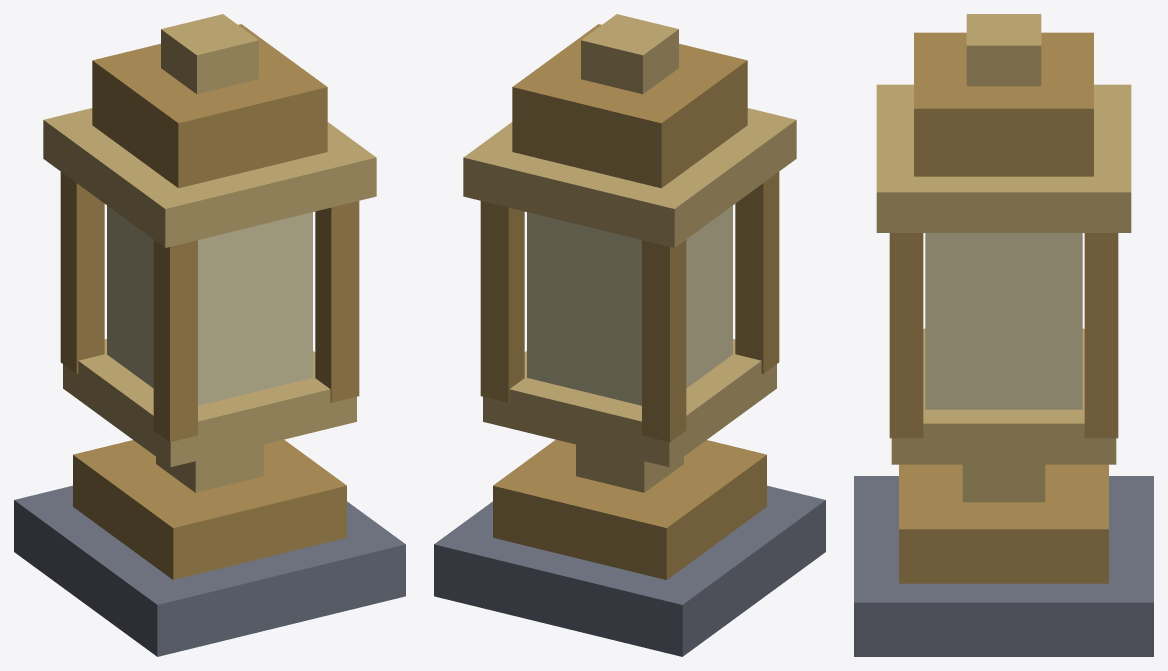
File: lampa_0.glb
3 views of the same model, side by side, from view 1: azimuth 30°, elevation 25°; view 2: azimuth 150°, elevation 25°; view 3: azimuth 270°, elevation 25° (orthographic). The views are drawn at different scales.
Parts seen in each view (by area): view 1: part_0, part_10, part_1, part_5, part_4, part_3, part_7, part_9, part_6, part_11, part_2; view 2: part_0, part_10, part_1, part_5, part_4, part_3, part_6, part_8, part_7, part_11, part_2; view 3: part_0, part_10, part_5, part_1, part_4, part_3, part_8, part_9, part_11, part_2.
Boxes of the visible parts, x1,y1,x2,y2 form: part_0: (14, 485, 405, 656); part_10: (107, 205, 312, 405); part_1: (73, 439, 346, 579); part_5: (92, 24, 327, 188); part_4: (43, 108, 376, 247); part_3: (63, 339, 356, 467); part_7: (153, 240, 197, 442); part_9: (315, 201, 359, 402); part_6: (60, 172, 104, 373); part_11: (161, 14, 258, 94); part_2: (156, 444, 263, 492); part_0: (434, 485, 825, 656); part_10: (527, 205, 732, 405); part_1: (493, 439, 766, 579); part_5: (512, 24, 747, 188); part_4: (463, 108, 796, 247); part_3: (483, 339, 776, 467); part_6: (642, 240, 686, 442); part_8: (480, 201, 524, 402); part_7: (735, 172, 779, 373); part_11: (581, 14, 678, 94); part_2: (576, 444, 683, 492); part_0: (854, 476, 1153, 656); part_10: (925, 233, 1082, 409); part_5: (914, 32, 1093, 176); part_1: (899, 464, 1108, 583); part_4: (876, 84, 1131, 232); part_3: (891, 328, 1116, 464); part_8: (1084, 233, 1118, 438); part_9: (889, 233, 923, 438); part_11: (966, 14, 1041, 86); part_2: (962, 464, 1045, 502).
Bounding box in the file's own units: 0.4 × 0.83 × 0.4.
